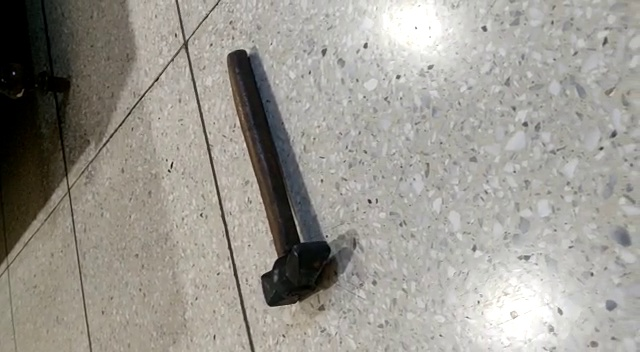hammer: (221, 49, 333, 309)
